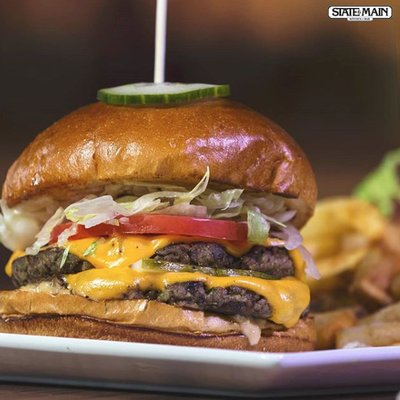soup: (2, 82, 323, 350)
